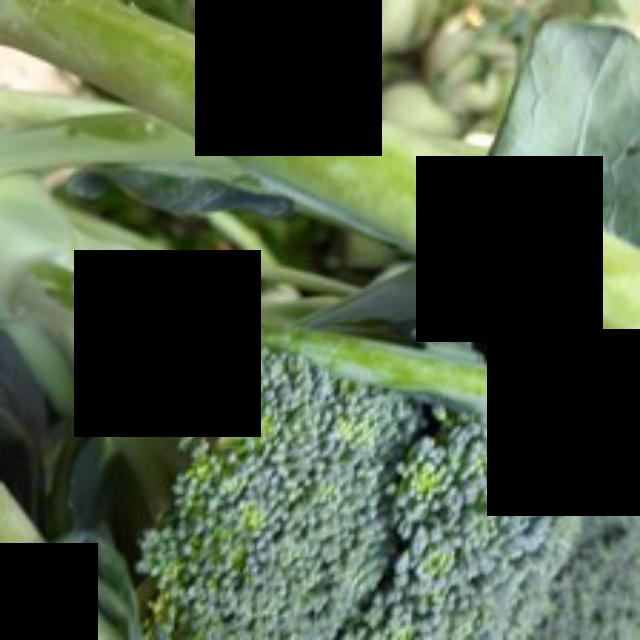broccoli: (133, 297, 612, 640)
